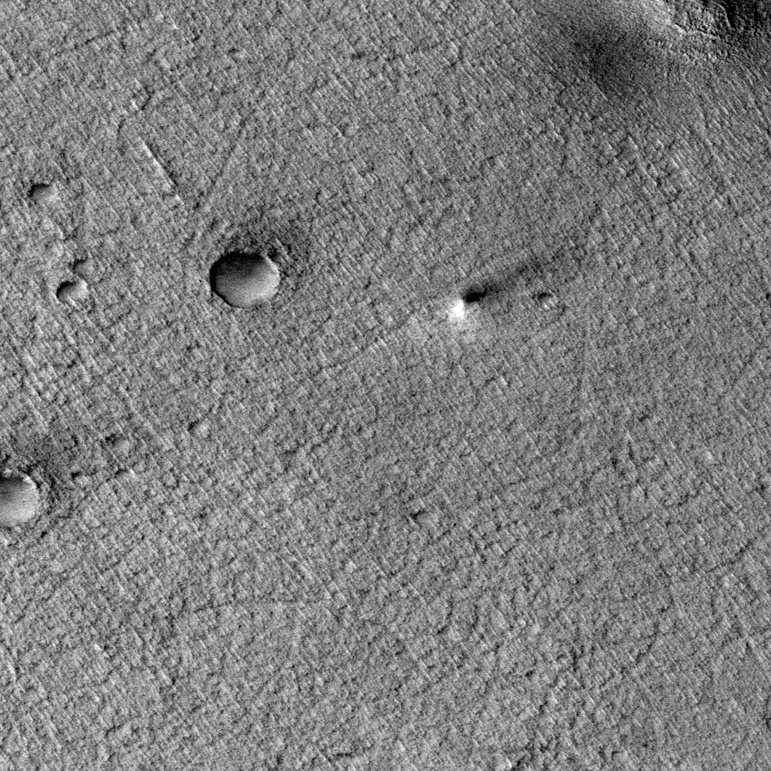dust_devil: (445, 245, 567, 325)
